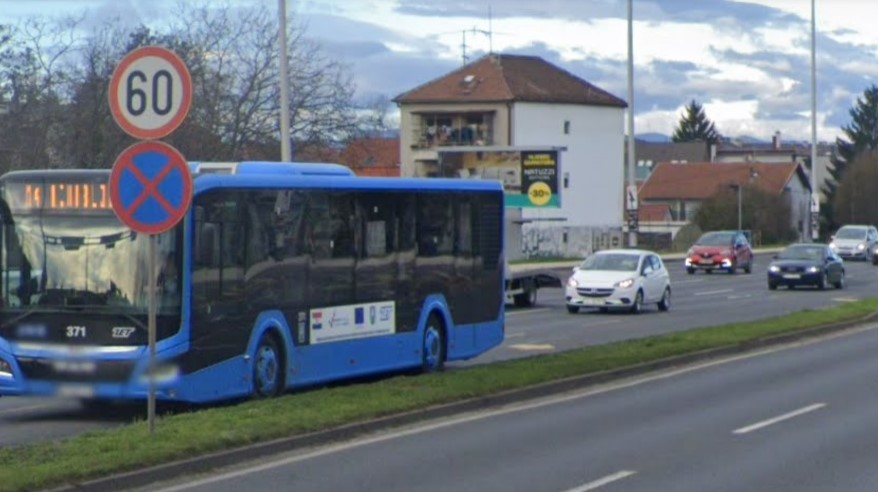Ograničenje brzine 60: (109, 46, 192, 140)
